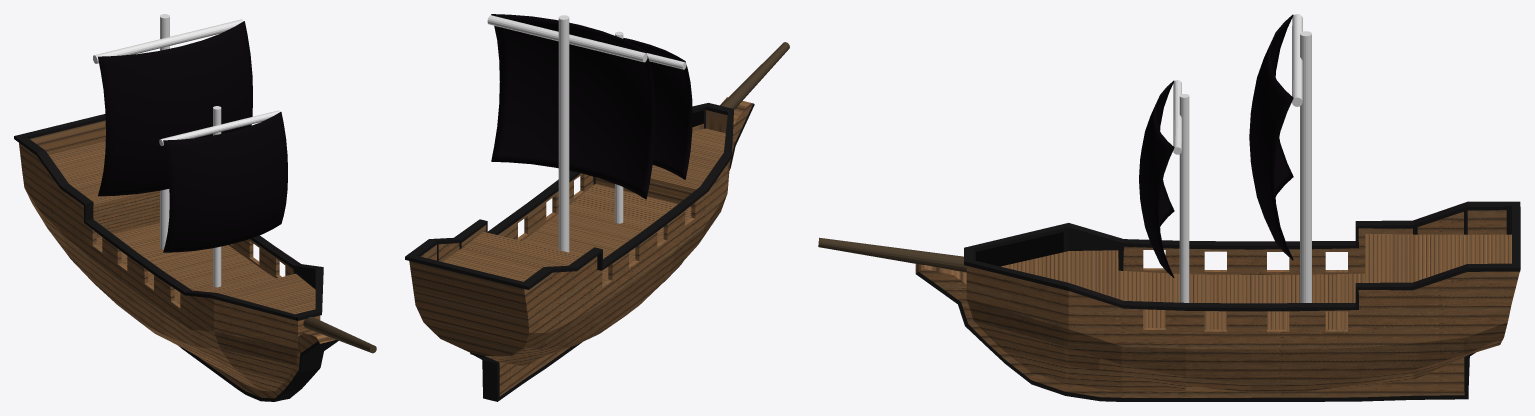
The picture shows the model from 3 angles, left to right: view 1: azimuth 30°, elevation 25°; view 2: azimuth 150°, elevation 25°; view 3: azimuth 270°, elevation 25°; orthographic projection. The views are drawn at different scales.
Parts seen in each view (by area): view 1: HullRear, Sail.001, Sail, Mast.002, Mast, Cylinder.002; view 2: HullRear, Sail.001, Sail, Mast.002, Cylinder.002, Mast; view 3: HullRear, Sail.001, Mast.002, Sail, Mast, Cylinder.002.
Part boxes in pixels (bbox=[...]): HullRear: bbox=[14, 114, 338, 401]; Sail.001: bbox=[98, 21, 252, 196]; Sail: bbox=[163, 112, 287, 252]; Mast.002: bbox=[93, 14, 243, 249]; Mast: bbox=[159, 106, 280, 287]; Cylinder.002: bbox=[303, 317, 376, 353]; HullRear: bbox=[405, 97, 754, 401]; Sail.001: bbox=[491, 14, 655, 199]; Sail: bbox=[623, 38, 692, 179]; Mast.002: bbox=[487, 15, 647, 252]; Cylinder.002: bbox=[720, 42, 789, 109]; Mast: bbox=[615, 31, 686, 223]; HullRear: bbox=[915, 201, 1520, 401]; Sail.001: bbox=[1249, 14, 1293, 260]; Mast.002: bbox=[1292, 14, 1311, 302]; Sail: bbox=[1139, 80, 1174, 277]; Mast: bbox=[1173, 80, 1189, 302]; Cylinder.002: bbox=[818, 237, 966, 272].
Bounding box in the file's own units: 398 × 807 × 1410.
7 materials, 1 textured.
